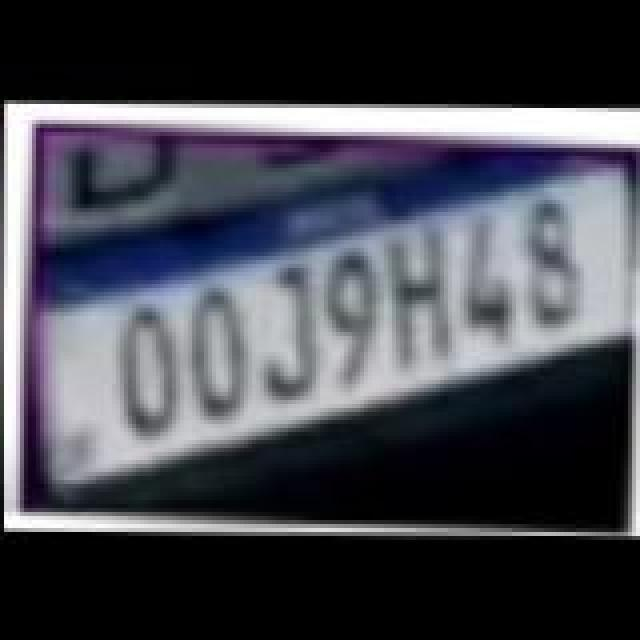4: (456, 214, 524, 346)
8: (522, 194, 590, 326)
9: (318, 244, 390, 384)
H: (378, 222, 458, 370)
J: (252, 260, 328, 400)
O: (116, 304, 192, 436), (186, 282, 258, 414)
